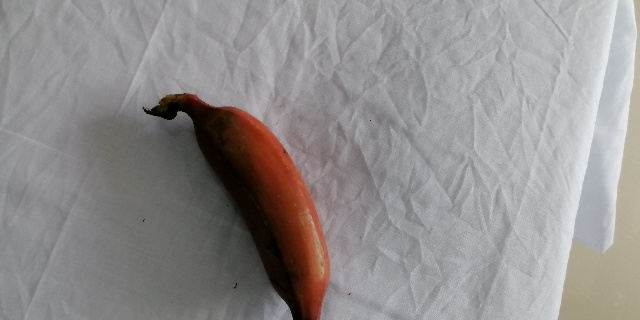banana_red: (143, 94, 332, 320)
